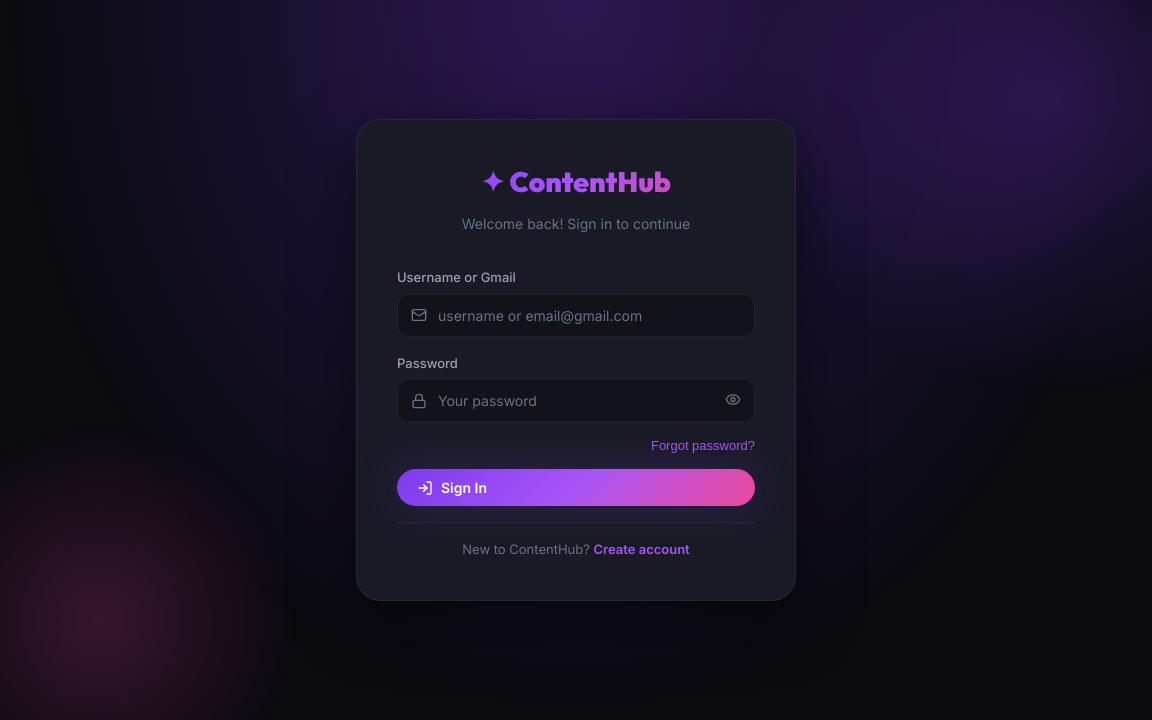
it: Login Page › switches to forgot password mode
Click the button "Forgot password?" at coordinates (703, 446), box [397, 438, 755, 454]
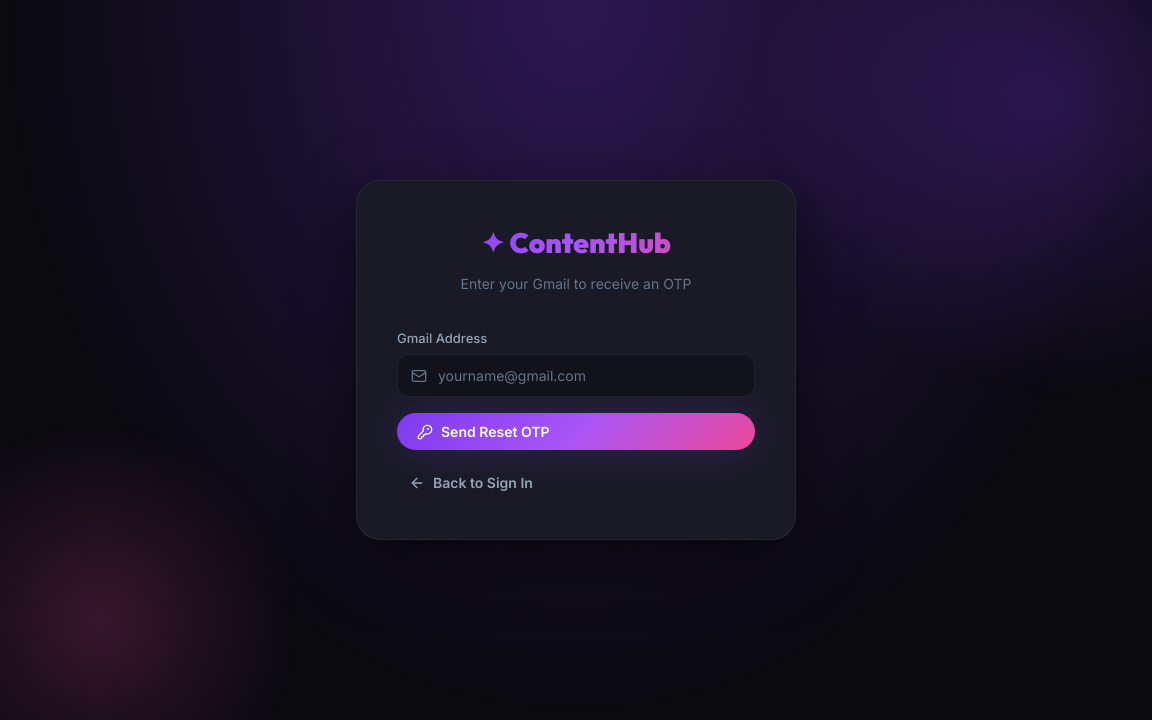
Check: the text "Enter your Gmail to receive an OTP" is shown, box [461, 275, 691, 292]
